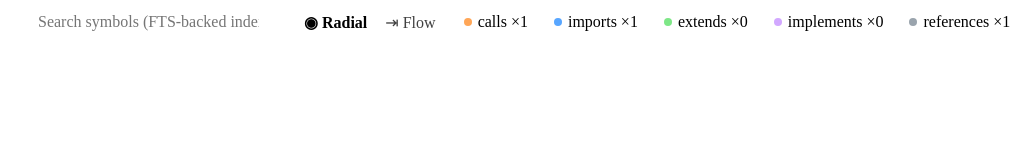
it: CodeGraphView canvas wiring › chip counts react to the search scope (live), not to kind toggles
Type "user" into the search field named "Search nodes by name". click: (156, 22)
box: left=26, top=8, right=286, bottom=36
Wait 200 ms
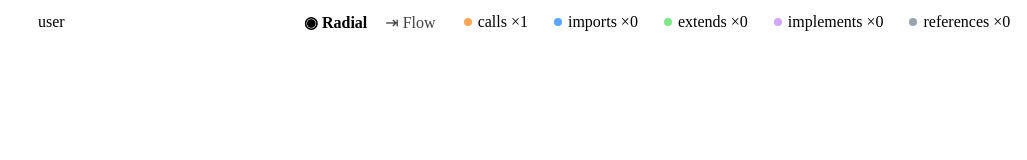
Expected: the button "calls ×1" is shown, left=454, top=8, right=538, bottom=36
Expected: the button "imports ×0" is shown, left=544, top=8, right=648, bottom=36
